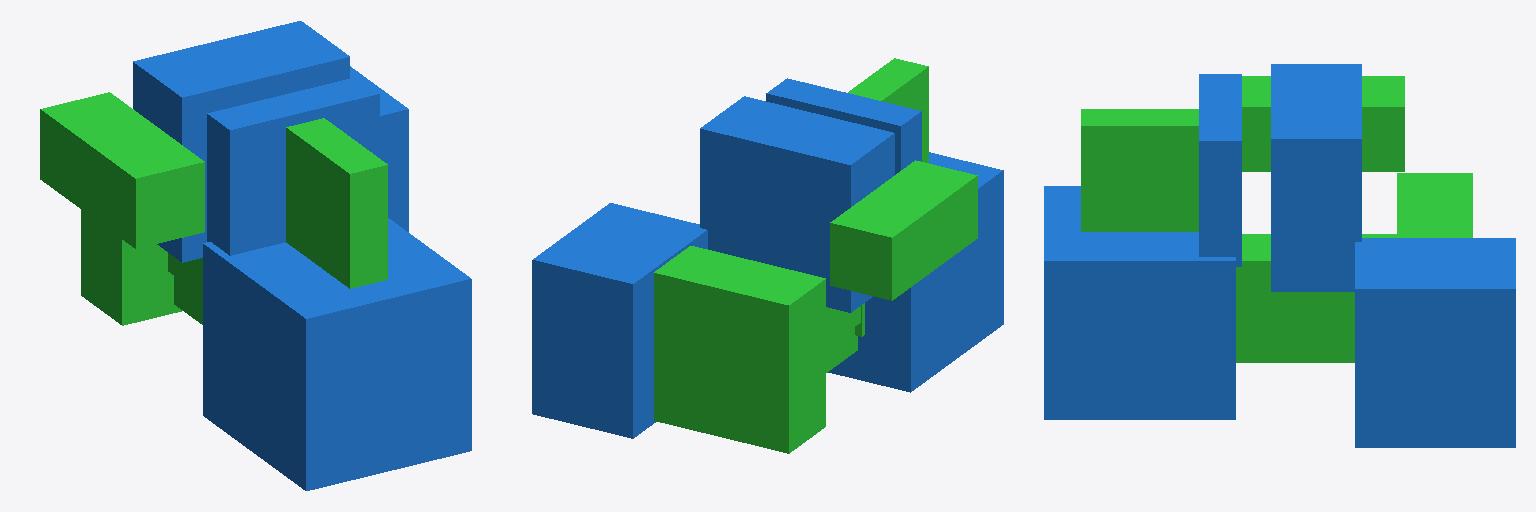
robot.urdf — robot:
<robot name = "robot">
    <link name="Link0">
        <inertial>
            <origin xyz="0 0 2" rpy="0 0 0"/>
            <mass value="0.24159438313137246" />
            <inertia ixx="100" ixy="0" ixz="0" iyy="100" iyz="0" izz="100" />
        </inertial>
        <visual>
            <origin xyz="0 0 2" rpy="0 0 0"/>
            <geometry>
                <box size="0.4719931710897395 1.1207323061773764 0.4567191553394264" />
            </geometry>
            <material name="Sensor">
                <color rgba="0.239 0.875 0.282 1.0"/>
            </material>
        </visual>
        <collision>
            <origin xyz="0 0 2" rpy="0 0 0"/>
            <geometry>
                <box size="0.4719931710897395 1.1207323061773764 0.4567191553394264" />
            </geometry>
        </collision>
    </link>
    <joint name="Link0_Link1" type="revolute">
       <parent link="Link0"/>
       <child  link="Link1"/>
       <origin rpy="0 0 0" xyz="0.23599658554486974 0 2" />
       <axis xyz="1 0 0"/>
       <limit effort="0.0" lower="-3.14159" upper="3.14159" velocity="0.0"/>
    </joint>
    <link name="Link1">
        <inertial>
            <origin xyz="0.5714300757180009 0 0" rpy="0 0 0"/>
            <mass value="0.7124975516153823" />
            <inertia ixx="100" ixy="0" ixz="0" iyy="100" iyz="0" izz="100" />
        </inertial>
        <visual>
            <origin xyz="0.5714300757180009 0 0" rpy="0 0 0"/>
            <geometry>
                <box size="1.1428601514360017 0.5819798053011772 1.0712291230578317" />
            </geometry>
            <material name="No Sensor">
                <color rgba="0.184 0.553 0.933 1.0"/>
            </material>
        </visual>
        <collision>
            <origin xyz="0.5714300757180009 0 0" rpy="0 0 0"/>
            <geometry>
                <box size="1.1428601514360017 0.5819798053011772 1.0712291230578317" />
            </geometry>
        </collision>
    </link>
    <joint name="Link1_Link2" type="revolute">
       <parent link="Link1"/>
       <child  link="Link2"/>
       <origin rpy="0 0 0" xyz="0.5714300757180009 0.0 -0.5356145615289158" />
       <axis xyz="0 0 1"/>
       <limit effort="0.0" lower="-3.14159" upper="3.14159" velocity="0.0"/>
    </joint>
    <link name="Link2">
        <inertial>
            <origin xyz="0.0 0.0 -0.34420461572044675" rpy="0 0 0"/>
            <mass value="0.23135440586714634" />
            <inertia ixx="100" ixy="0" ixz="0" iyy="100" iyz="0" izz="100" />
        </inertial>
        <visual>
            <origin xyz="0.0 0.0 -0.34420461572044675" rpy="0 0 0"/>
            <geometry>
                <box size="0.32630828937395717 1.0299187922401147 0.6884092314408935" />
            </geometry>
            <material name="Sensor">
                <color rgba="0.239 0.875 0.282 1.0"/>
            </material>
        </visual>
        <collision>
            <origin xyz="0.0 0.0 -0.34420461572044675" rpy="0 0 0"/>
            <geometry>
                <box size="0.32630828937395717 1.0299187922401147 0.6884092314408935" />
            </geometry>
        </collision>
    </link>
    <joint name="Link2_Link3" type="revolute">
       <parent link="Link2"/>
       <child  link="Link3"/>
       <origin rpy="0 0 0" xyz="0.0 -0.5149593961200574 -0.34420461572044675" />
       <axis xyz="0 1 0"/>
       <limit effort="0.0" lower="-3.14159" upper="3.14159" velocity="0.0"/>
    </joint>
    <link name="Link3">
        <inertial>
            <origin xyz="0.0 -0.6092703314104659 0.0" rpy="0 0 0"/>
            <mass value="1.5321151085328013" />
            <inertia ixx="100" ixy="0" ixz="0" iyy="100" iyz="0" izz="100" />
        </inertial>
        <visual>
            <origin xyz="0.0 -0.6092703314104659 0.0" rpy="0 0 0"/>
            <geometry>
                <box size="1.1234294027918161 1.2185406628209319 1.11919454021392" />
            </geometry>
            <material name="No Sensor">
                <color rgba="0.184 0.553 0.933 1.0"/>
            </material>
        </visual>
        <collision>
            <origin xyz="0.0 -0.6092703314104659 0.0" rpy="0 0 0"/>
            <geometry>
                <box size="1.1234294027918161 1.2185406628209319 1.11919454021392" />
            </geometry>
        </collision>
    </link>
    <joint name="Link3_Link4" type="revolute">
       <parent link="Link3"/>
       <child  link="Link4"/>
       <origin rpy="0 0 0" xyz="0.0 -0.6092703314104659 0.55959727010696" />
       <axis xyz="1 0 0"/>
       <limit effort="0.0" lower="-3.14159" upper="3.14159" velocity="0.0"/>
    </joint>
    <link name="Link4">
        <inertial>
            <origin xyz="0.0 0.0 0.37288664656707304" rpy="0 0 0"/>
            <mass value="0.14599907611527876" />
            <inertia ixx="100" ixy="0" ixz="0" iyy="100" iyz="0" izz="100" />
        </inertial>
        <visual>
            <origin xyz="0.0 0.0 0.37288664656707304" rpy="0 0 0"/>
            <geometry>
                <box size="0.26037415388569995 0.7518745921487388 0.7457732931341461" />
            </geometry>
            <material name="Sensor">
                <color rgba="0.239 0.875 0.282 1.0"/>
            </material>
        </visual>
        <collision>
            <origin xyz="0.0 0.0 0.37288664656707304" rpy="0 0 0"/>
            <geometry>
                <box size="0.26037415388569995 0.7518745921487388 0.7457732931341461" />
            </geometry>
        </collision>
    </link>
    <joint name="Link4_Link5" type="revolute">
       <parent link="Link4"/>
       <child  link="Link5"/>
       <origin rpy="0 0 0" xyz="0.0 0.3759372960743694 0.37288664656707304" />
       <axis xyz="0 1 0"/>
       <limit effort="0.0" lower="-3.14159" upper="3.14159" velocity="0.0"/>
    </joint>
    <link name="Link5">
        <inertial>
            <origin xyz="0.0 0.13537597467970075 0.0" rpy="0 0 0"/>
            <mass value="0.2443504350150486" />
            <inertia ixx="100" ixy="0" ixz="0" iyy="100" iyz="0" izz="100" />
        </inertial>
        <visual>
            <origin xyz="0.0 0.13537597467970075 0.0" rpy="0 0 0"/>
            <geometry>
                <box size="1.0213206432667459 0.2707519493594015 0.8836482349262754" />
            </geometry>
            <material name="No Sensor">
                <color rgba="0.184 0.553 0.933 1.0"/>
            </material>
        </visual>
        <collision>
            <origin xyz="0.0 0.13537597467970075 0.0" rpy="0 0 0"/>
            <geometry>
                <box size="1.0213206432667459 0.2707519493594015 0.8836482349262754" />
            </geometry>
        </collision>
    </link>
    <joint name="Link5_Link6" type="revolute">
       <parent link="Link5"/>
       <child  link="Link6"/>
       <origin rpy="0 0 0" xyz="0.0 0.13537597467970075 -0.4418241174631377" />
       <axis xyz="0 0 1"/>
       <limit effort="0.0" lower="-3.14159" upper="3.14159" velocity="0.0"/>
    </joint>
    <link name="Link6">
        <inertial>
            <origin xyz="0.0 0.0 -0.3566092632491723" rpy="0 0 0"/>
            <mass value="0.0826955686865952" />
            <inertia ixx="100" ixy="0" ixz="0" iyy="100" iyz="0" izz="100" />
        </inertial>
        <visual>
            <origin xyz="0.0 0.0 -0.3566092632491723" rpy="0 0 0"/>
            <geometry>
                <box size="0.4302696888767692 0.2694752414876246 0.7132185264983446" />
            </geometry>
            <material name="Sensor">
                <color rgba="0.239 0.875 0.282 1.0"/>
            </material>
        </visual>
        <collision>
            <origin xyz="0.0 0.0 -0.3566092632491723" rpy="0 0 0"/>
            <geometry>
                <box size="0.4302696888767692 0.2694752414876246 0.7132185264983446" />
            </geometry>
        </collision>
    </link>
    <joint name="Link6_Link7" type="revolute">
       <parent link="Link6"/>
       <child  link="Link7"/>
       <origin rpy="0 0 0" xyz="0.0 0.1347376207438123 -0.3566092632491723" />
       <axis xyz="0 1 0"/>
       <limit effort="0.0" lower="-3.14159" upper="3.14159" velocity="0.0"/>
    </joint>
    <link name="Link7">
        <inertial>
            <origin xyz="0.0 0.4950248482577024 0.0" rpy="0 0 0"/>
            <mass value="0.20539853719865275" />
            <inertia ixx="100" ixy="0" ixz="0" iyy="100" iyz="0" izz="100" />
        </inertial>
        <visual>
            <origin xyz="0.0 0.4950248482577024 0.0" rpy="0 0 0"/>
            <geometry>
                <box size="0.40416284237967237 0.9900496965154048 0.5133150151851347" />
            </geometry>
            <material name="Sensor">
                <color rgba="0.239 0.875 0.282 1.0"/>
            </material>
        </visual>
        <collision>
            <origin xyz="0.0 0.4950248482577024 0.0" rpy="0 0 0"/>
            <geometry>
                <box size="0.40416284237967237 0.9900496965154048 0.5133150151851347" />
            </geometry>
        </collision>
    </link>
    <joint name="Link7_Link8" type="revolute">
       <parent link="Link7"/>
       <child  link="Link8"/>
       <origin rpy="0 0 0" xyz="0.0 0.9900496965154048 0.0" />
       <axis xyz="0 1 0"/>
       <limit effort="0.0" lower="-3.14159" upper="3.14159" velocity="0.0"/>
    </joint>
    <link name="Link8">
        <inertial>
            <origin xyz="0.0 0.24377061001745615 0.0" rpy="0 0 0"/>
            <mass value="0.5382643443625381" />
            <inertia ixx="100" ixy="0" ixz="0" iyy="100" iyz="0" izz="100" />
        </inertial>
        <visual>
            <origin xyz="0.0 0.24377061001745615 0.0" rpy="0 0 0"/>
            <geometry>
                <box size="1.0277024105738202 0.4875412200349123 1.0742785326613684" />
            </geometry>
            <material name="Sensor">
                <color rgba="0.239 0.875 0.282 1.0"/>
            </material>
        </visual>
        <collision>
            <origin xyz="0.0 0.24377061001745615 0.0" rpy="0 0 0"/>
            <geometry>
                <box size="1.0277024105738202 0.4875412200349123 1.0742785326613684" />
            </geometry>
        </collision>
    </link>
    <joint name="Link8_Link9" type="revolute">
       <parent link="Link8"/>
       <child  link="Link9"/>
       <origin rpy="0 0 0" xyz="0.5138512052869101 0.24377061001745615 0.0" />
       <axis xyz="0 1 0"/>
       <limit effort="0.0" lower="-3.14159" upper="3.14159" velocity="0.0"/>
    </joint>
    <link name="Link9">
        <inertial>
            <origin xyz="0.3819716718863451 0.0 0.0" rpy="0 0 0"/>
            <mass value="0.8757712431768542" />
            <inertia ixx="100" ixy="0" ixz="0" iyy="100" iyz="0" izz="100" />
        </inertial>
        <visual>
            <origin xyz="0.3819716718863451 0.0 0.0" rpy="0 0 0"/>
            <geometry>
                <box size="0.7639433437726902 1.0231650520792968 1.1204276857248128" />
            </geometry>
            <material name="No Sensor">
                <color rgba="0.184 0.553 0.933 1.0"/>
            </material>
        </visual>
        <collision>
            <origin xyz="0.3819716718863451 0.0 0.0" rpy="0 0 0"/>
            <geometry>
                <box size="0.7639433437726902 1.0231650520792968 1.1204276857248128" />
            </geometry>
        </collision>
    </link>
</robot>

--- What the picture shows (computed from the rendered views, not written in the file) ---
Views: 3 orthographic renders of the robot side by side, from view 1: azimuth 30°, elevation 25°; view 2: azimuth 150°, elevation 25°; view 3: azimuth 270°, elevation 25°.
Model robot with 10 links and 9 joints (9 revolute), rooted at Link0, posed every joint at zero.
Visible links, largest first — view 1: Link3, Link0, Link1, Link5, Link4, Link8, Link9, Link7, Link2; view 2: Link8, Link9, Link1, Link3, Link0, Link5, Link4, Link7, Link2; view 3: Link3, Link9, Link1, Link4, Link5, Link0, Link7, Link8, Link2.
Link boxes in pixels (x1,y1,x2,y2): Link3: (203,218,471,490); Link0: (40,92,204,248); Link1: (133,21,349,262); Link5: (207,77,379,255); Link4: (286,118,387,288); Link8: (81,210,182,325); Link9: (350,66,408,231); Link7: (168,253,202,296); Link2: (174,276,202,324); Link8: (654,246,825,453); Link9: (532,203,707,438); Link1: (700,96,894,312); Link3: (828,152,1003,392); Link0: (830,160,977,300); Link5: (766,78,921,174); Link4: (848,58,928,162); Link7: (826,306,860,347); Link2: (826,327,857,372); Link3: (1044,186,1235,419); Link9: (1355,238,1515,447); Link1: (1271,64,1361,291); Link4: (1081,109,1198,231); Link5: (1199,74,1241,266); Link0: (1242,76,1404,171); Link7: (1242,234,1396,333); Link8: (1397,173,1472,237); Link2: (1236,334,1354,362).
Bounding box of the posed robot: 2.32 × 3 × 1.98 m (x, y, z).
Geometry: primitives only (box / cylinder / sphere), no mesh files.